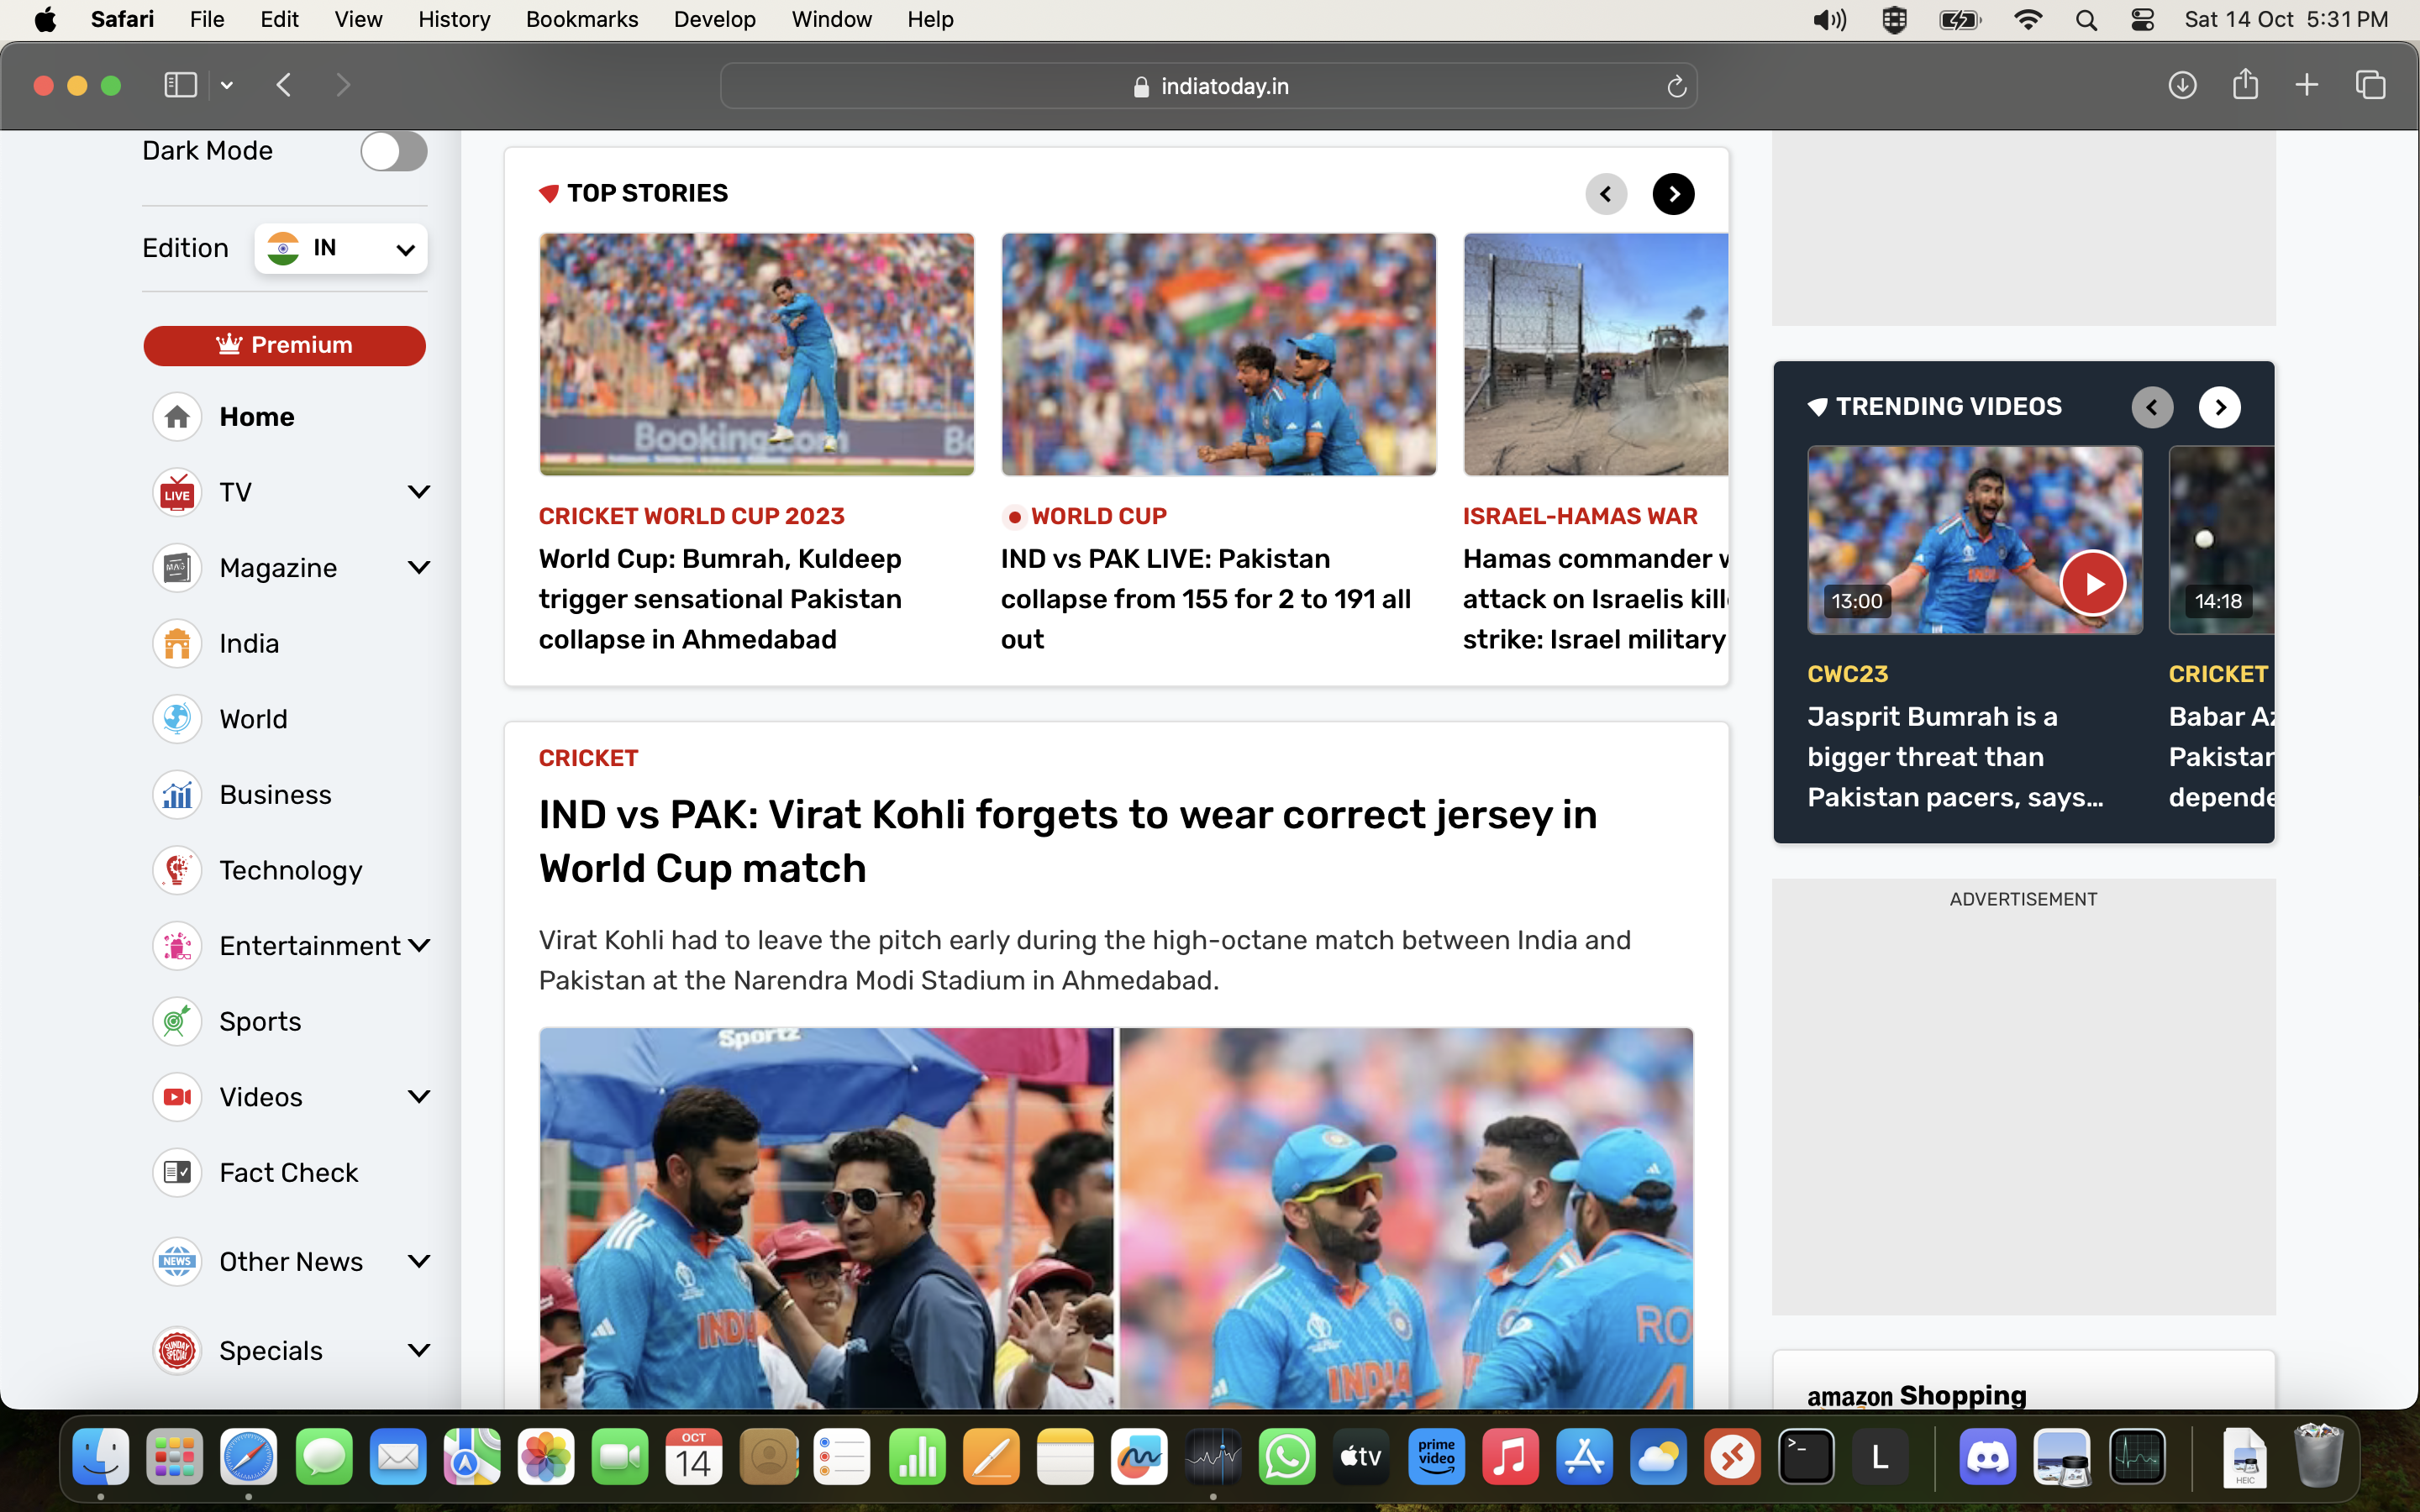Image: (545, 1028, 1112, 1418), (1119, 1045, 1697, 1399), (533, 226, 972, 479), (995, 230, 1429, 469), (1814, 456, 2146, 636), (1465, 246, 1721, 476), (2167, 453, 2267, 646)
Paragraph: (542, 786, 1605, 892), (533, 921, 1638, 1002), (526, 526, 915, 665), (991, 540, 1422, 658), (1795, 709, 2106, 826), (530, 493, 869, 537), (559, 157, 746, 223), (209, 845, 406, 892), (209, 925, 402, 972), (209, 1148, 376, 1191), (216, 1239, 369, 1286), (197, 319, 362, 362), (216, 768, 355, 819), (213, 549, 362, 592), (1012, 496, 1178, 533), (213, 1331, 333, 1374), (213, 1075, 314, 1118), (2164, 658, 2274, 695), (213, 469, 282, 526), (216, 625, 303, 669), (216, 695, 296, 739), (1788, 662, 1915, 686), (209, 1009, 307, 1035), (209, 406, 296, 427)
